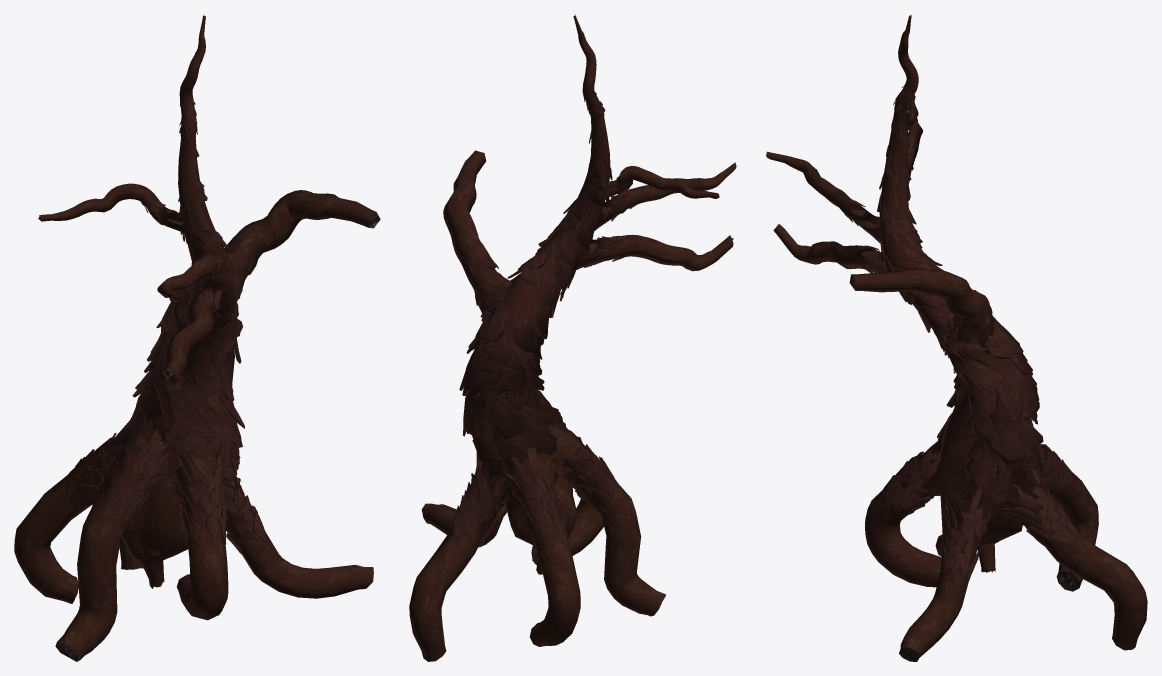
3 renders of one model, left to right at view 1: azimuth 30°, elevation 25°; view 2: azimuth 150°, elevation 25°; view 3: azimuth 270°, elevation 25°, orthographic. The views are drawn at different scales.
Visible parts, largest first — view 1: SM_GF_SwampTree_03_LOD0; view 2: SM_GF_SwampTree_03_LOD0; view 3: SM_GF_SwampTree_03_LOD0.
Boxes of the visible parts, left/top/right/bottom form: SM_GF_SwampTree_03_LOD0: left=14, top=15, right=380, bottom=661; SM_GF_SwampTree_03_LOD0: left=409, top=14, right=736, bottom=661; SM_GF_SwampTree_03_LOD0: left=766, top=14, right=1147, bottom=661.
Size of the model in its own units: 5.84 by 10.93 by 6.18.
Materials: 1 (1 with a texture image).
